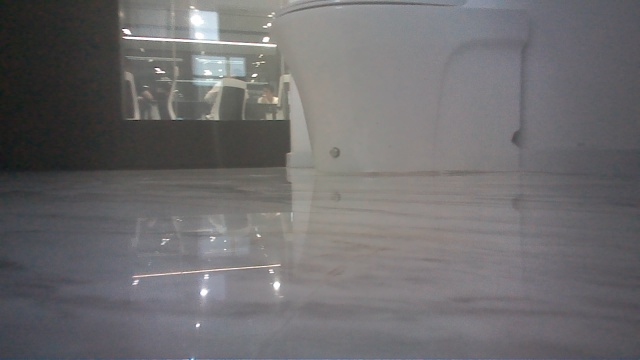toilet: (266, 1, 537, 187)
